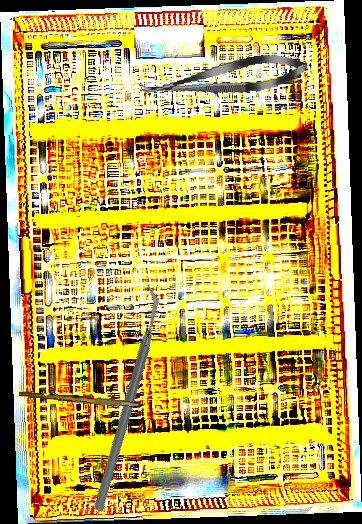Chopper: (17, 282, 234, 515)
Micro Scissor: (137, 49, 310, 107)
Scalpel Handle: (18, 390, 141, 408)
